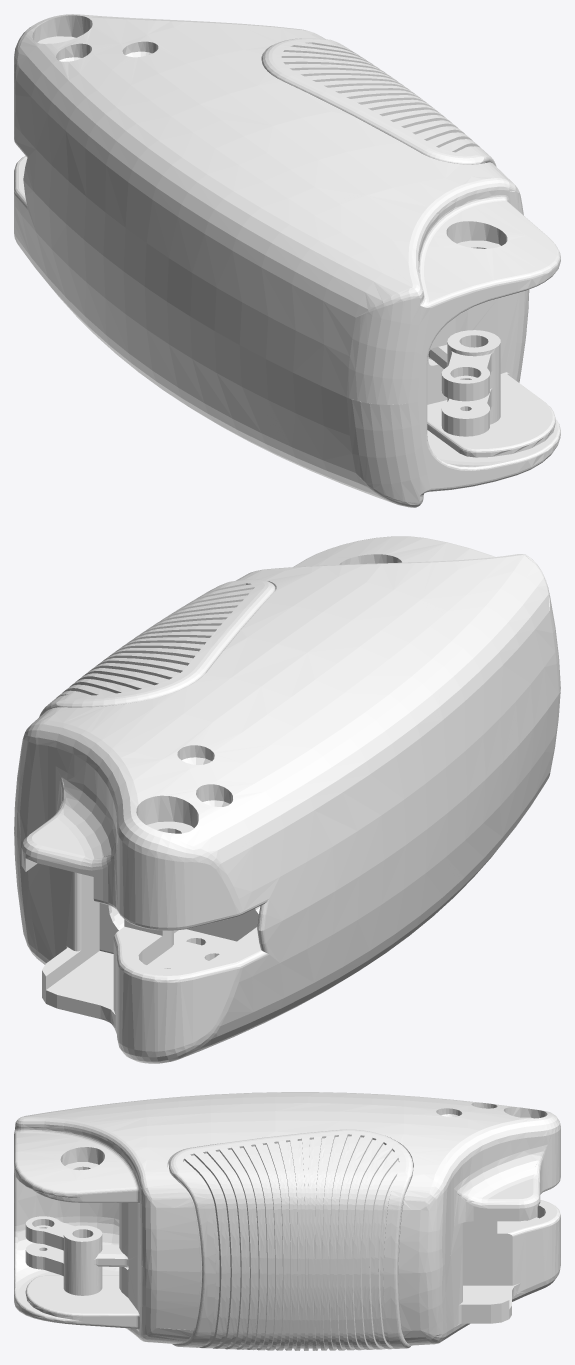
File: lh_thumb_metacarpals_vis.obj
The picture shows the model from 3 angles, top to bottom: view 1: azimuth 30°, elevation 25°; view 2: azimuth 150°, elevation 25°; view 3: azimuth 270°, elevation 25°; orthographic projection. The views are drawn at different scales.
Parts seen in each view (by area): view 1: lh_thumb_metacarpals; view 2: lh_thumb_metacarpals; view 3: lh_thumb_metacarpals.
Boxes of the visible parts, x1,y1,x2,y2 form: lh_thumb_metacarpals: [14, 14, 560, 507]; lh_thumb_metacarpals: [14, 536, 560, 1063]; lh_thumb_metacarpals: [14, 1092, 560, 1350].
Size of the model in its own units: 0.0364 by 0.0314 by 0.0774.
Materials: 1 (1 with a texture image).
